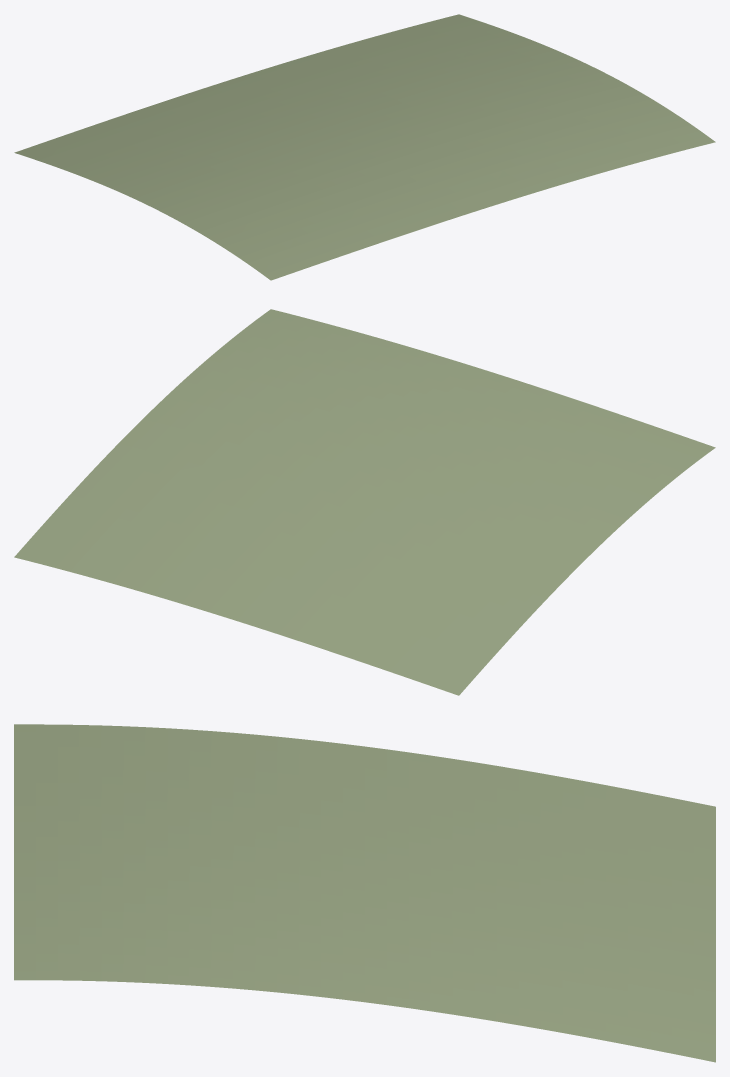
File: valley-10-0.glb
3 renders of one model, top to bottom at view 1: azimuth 30°, elevation 25°; view 2: azimuth 150°, elevation 25°; view 3: azimuth 270°, elevation 25°, orthographic. The views are drawn at different scales.
Visible parts, largest first — view 1: valley-10-0; view 2: valley-10-0; view 3: valley-10-0.
Boxes of the visible parts, x1=… form: valley-10-0: x1=14, y1=14, x2=715, y2=280; valley-10-0: x1=14, y1=309, x2=715, y2=695; valley-10-0: x1=14, y1=724, x2=715, y2=1062.
Size of the model in its own units: 256 by 49.54 by 256.
